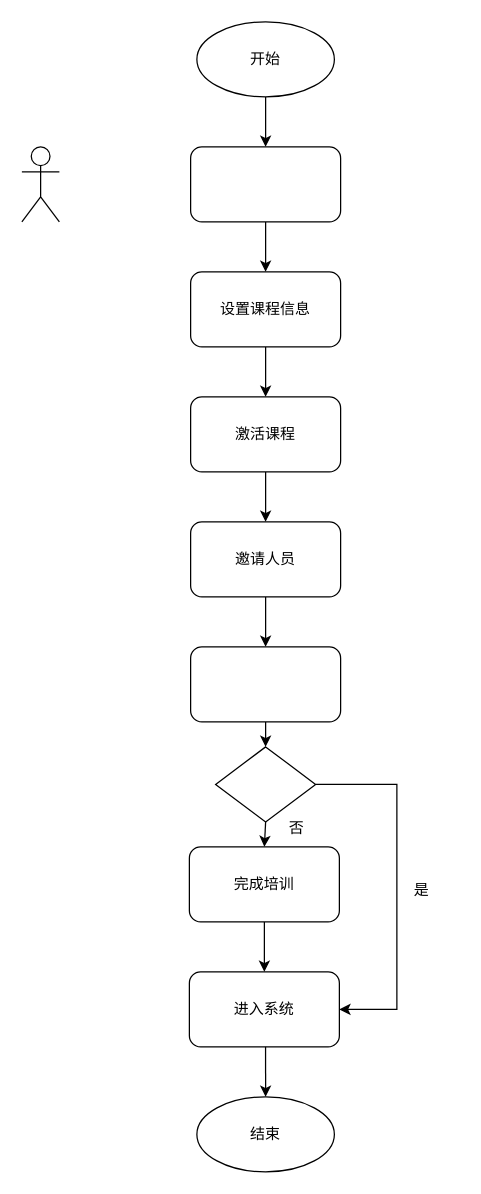
This 481x1194 diagram has some shape labels left out. The centre of each missing label's shape, as x and y in pixels:
"Actor" belongs at pixel 40 184.
"人员接受邀请" belongs at pixel 265 684.
"是否需要培训" belongs at pixel 265 784.
"添加系统课程" belongs at pixel 265 184.
